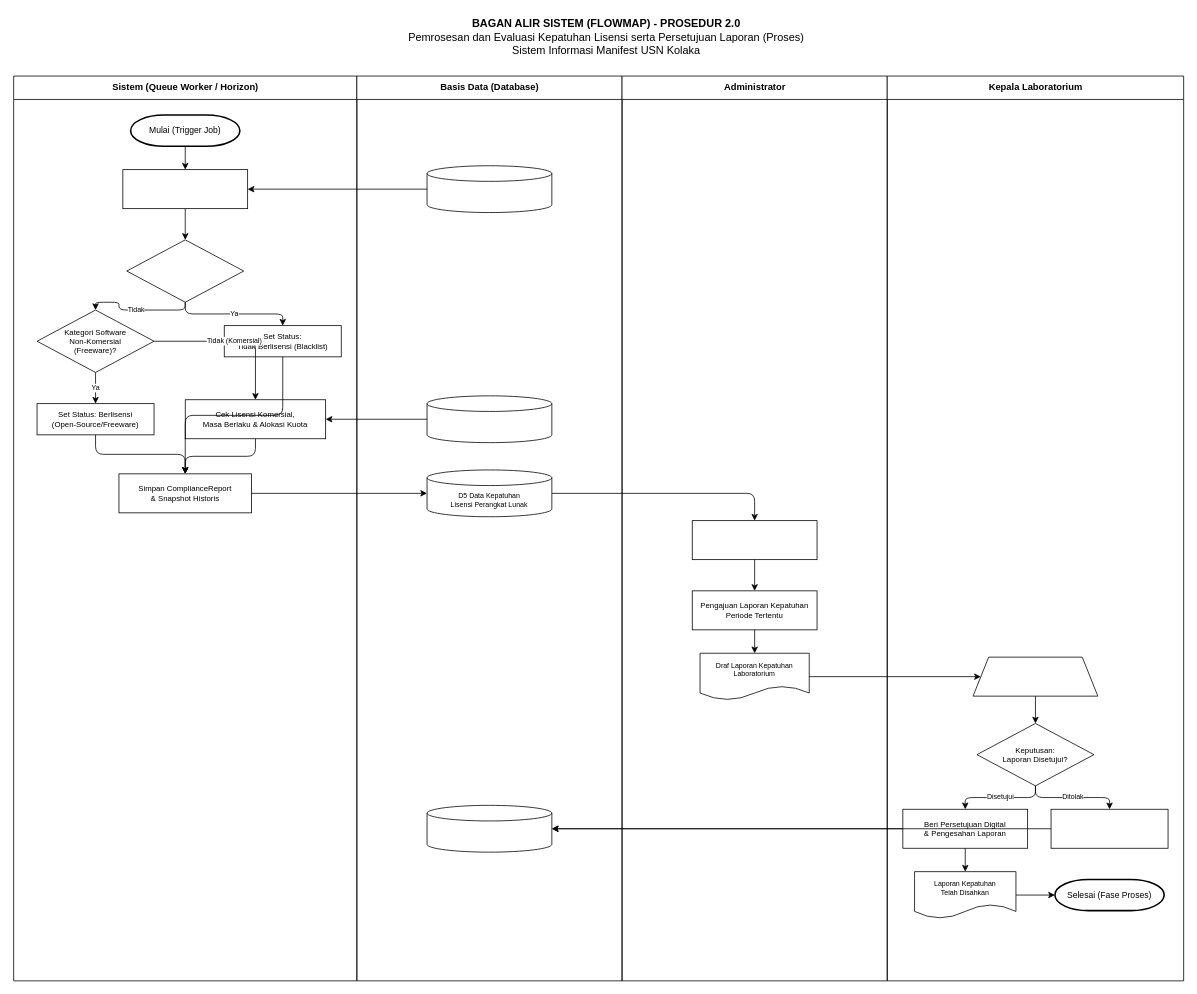
The diagram is 1197 pixels wide and 994 high, and some of its shapes have lost their labels. The shapes that lost their labels are listed below. From the top down, each one's centre as x and y in pixels, then its label:
At (185,189): "Filter Software Terinstal (Clean / Junk / Flagged)".
At (489,189): "D4 Data Komputer & Pemindaian Software".
At (185,270): "Aplikasi Masuk Daftar Blokir (Piracy/Crack)?".
At (489,419): "D3 Data Lisensi & Katalog Software".
At (754,540): "Tinjau Rekap Kepatuhan Laboratorium Berjalan".
At (1035,676): "Pemeriksaan & Telaah Data Kepatuhan Lab".
At (489,828): "D6 Data Persetujuan Laporan Laboratorium".
At (1109,828): "Catat Catatan Penolakan & Minta Perbaikan".
